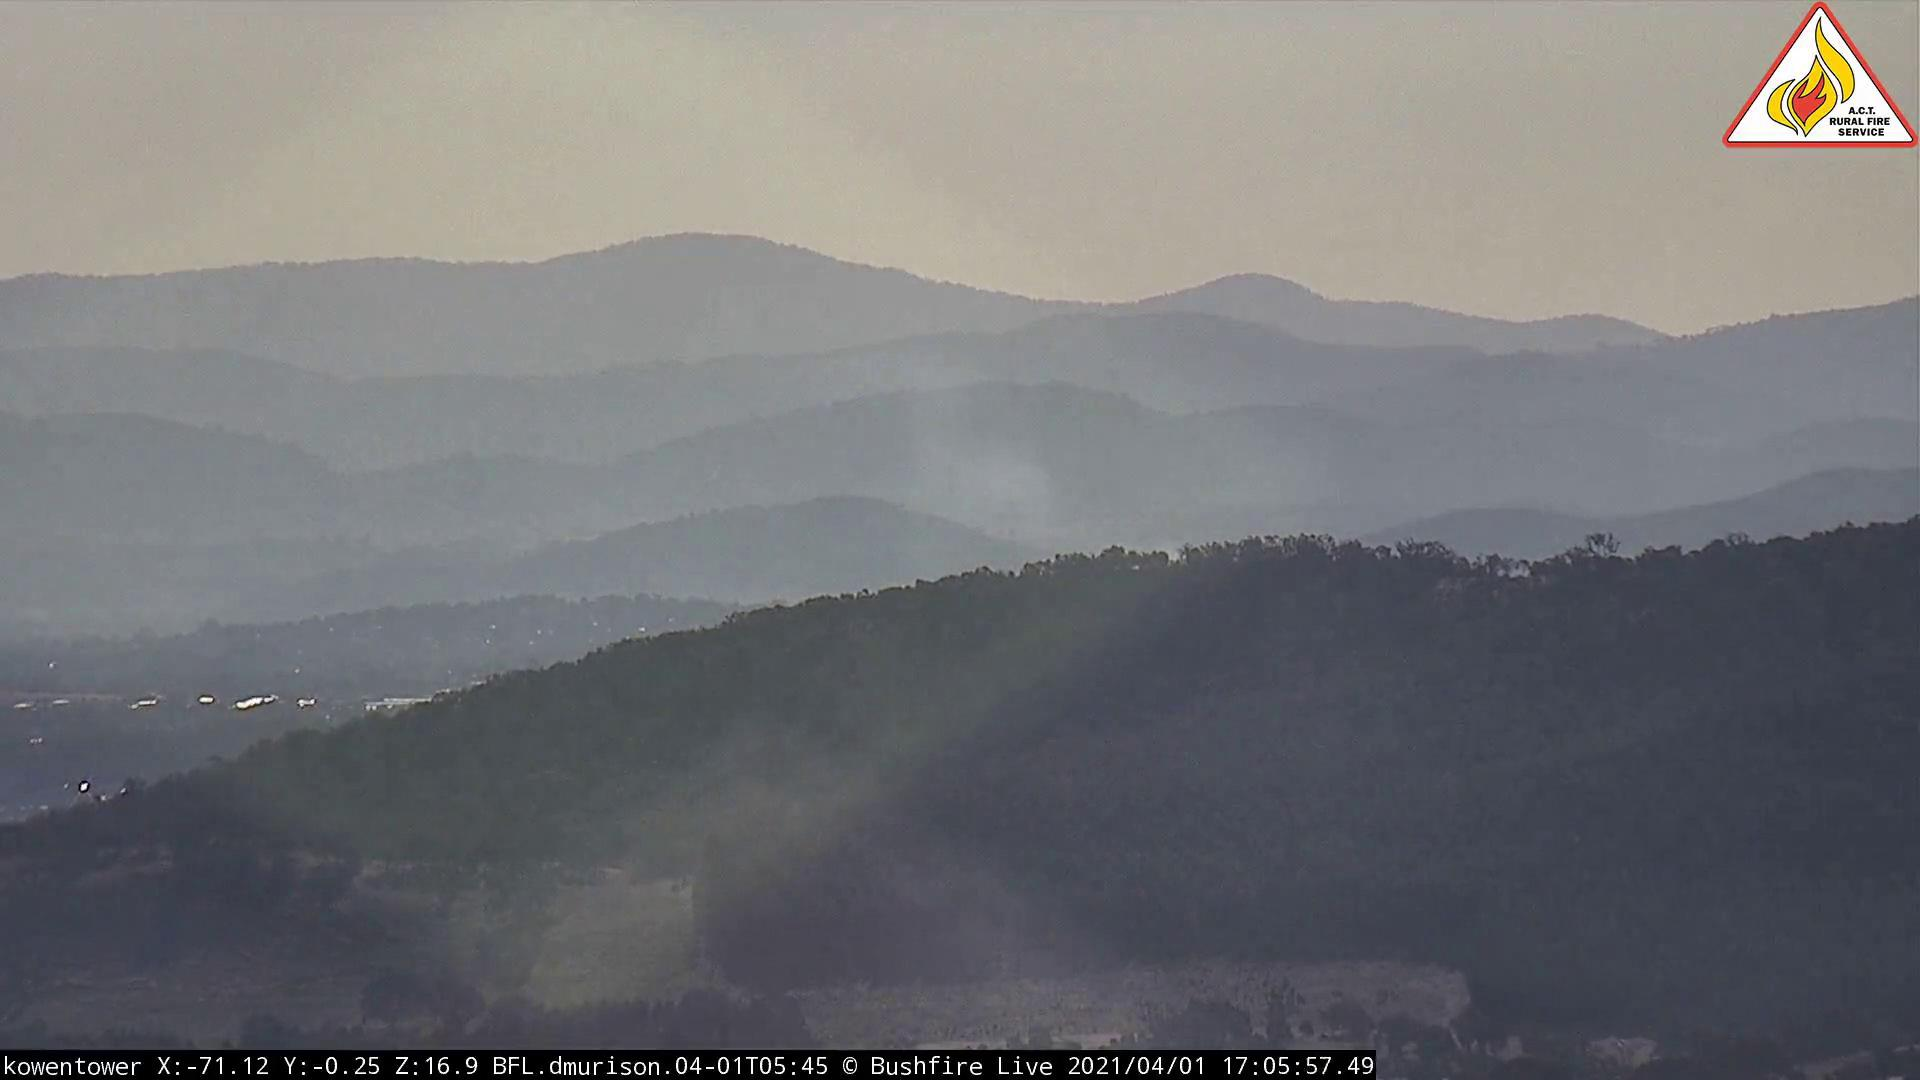Smoke: (920, 390, 1050, 572)
